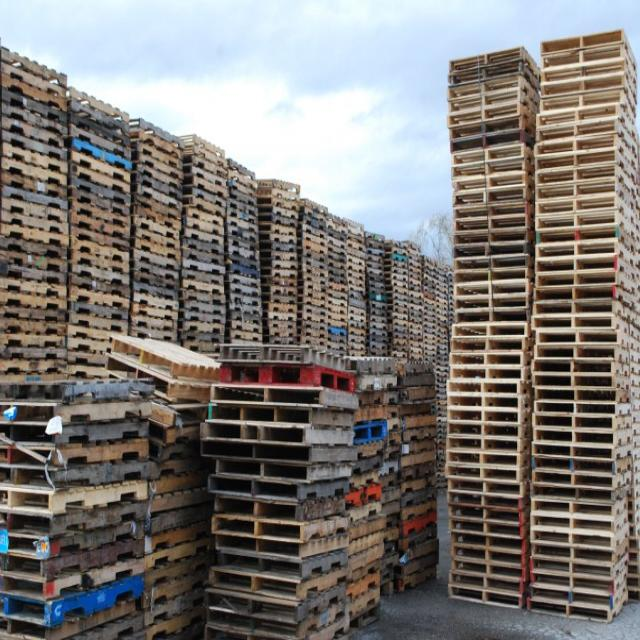Palette: (530, 17, 640, 626), (444, 47, 543, 616), (202, 322, 360, 640), (0, 364, 146, 640), (114, 330, 220, 640), (0, 40, 68, 375), (62, 69, 134, 371), (342, 344, 398, 635), (131, 113, 189, 355), (183, 122, 231, 346), (399, 351, 440, 594), (254, 175, 307, 347), (391, 236, 464, 359), (226, 153, 264, 345), (302, 198, 332, 352), (326, 215, 354, 347), (370, 230, 394, 357), (354, 224, 370, 362)
